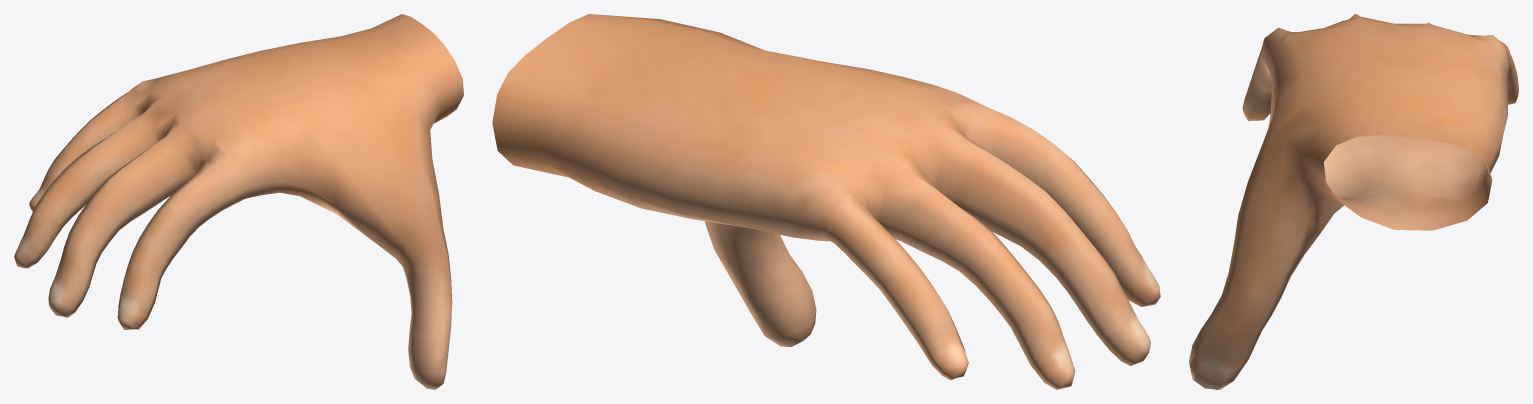
Rendered from H_grip_extralarge.fbx.
3 renders of one model, left to right at view 1: azimuth 30°, elevation 25°; view 2: azimuth 150°, elevation 25°; view 3: azimuth 270°, elevation 25°, orthographic. The views are drawn at different scales.
Visible parts, largest first — view 1: H_grip_extralarge; view 2: H_grip_extralarge; view 3: H_grip_extralarge.
Part boxes in pixels (bbox=[...]): H_grip_extralarge: bbox=[14, 14, 463, 389]; H_grip_extralarge: bbox=[492, 14, 1160, 389]; H_grip_extralarge: bbox=[1189, 14, 1518, 389].
Bounding box in the file's own units: 18.68 × 11.93 × 12.02.
1 material, 1 textured.
